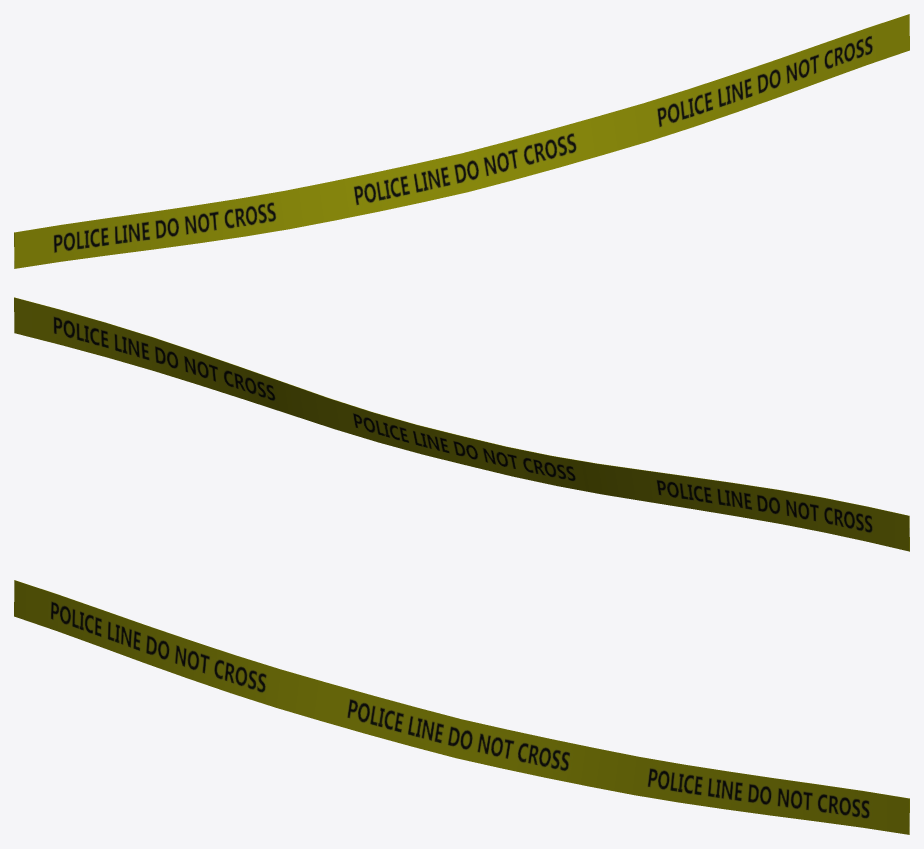
The model's file is SM_Tape01.glb.
3 renders of one model, top to bottom at view 1: azimuth 30°, elevation 25°; view 2: azimuth 150°, elevation 25°; view 3: azimuth 330°, elevation 25°, orthographic.
Visible parts, largest first — view 1: SM_Tape01; view 2: SM_Tape01; view 3: SM_Tape01.
Boxes of the visible parts, box(x1,y1,x2,y2) form: SM_Tape01: box(14, 14, 909, 268); SM_Tape01: box(14, 297, 909, 551); SM_Tape01: box(14, 580, 909, 834).
Bounding box in the file's own units: 2.53 × 0.1724 × 0.0369.
1 material, 1 textured.
